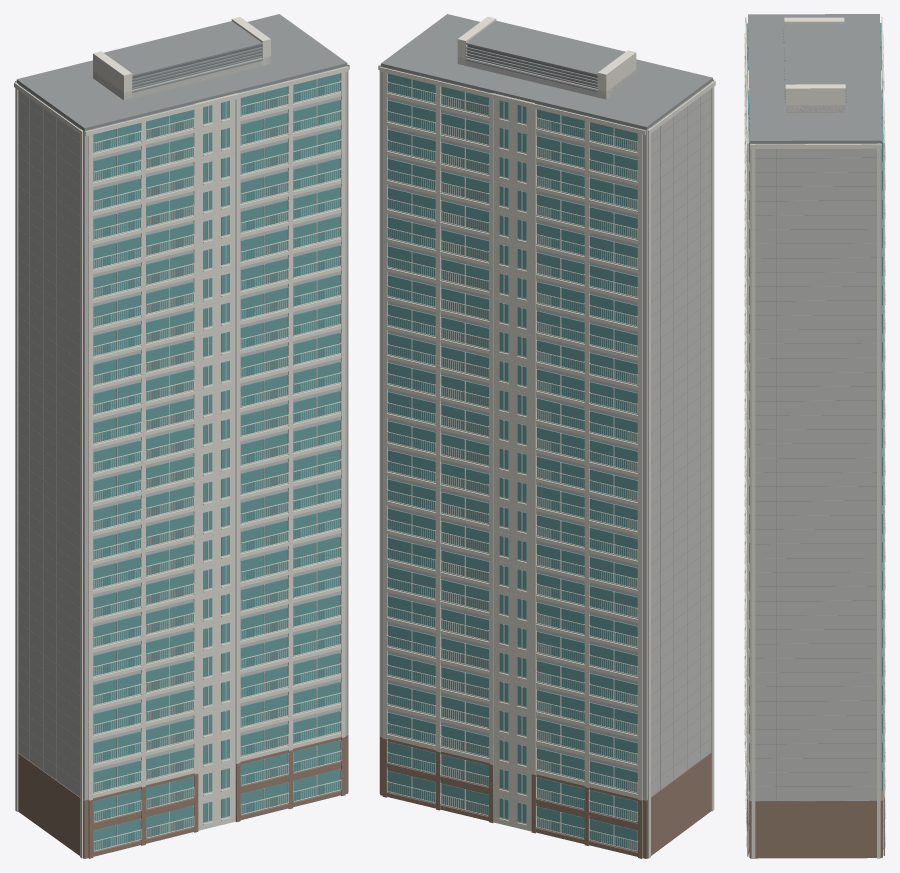
Rendered from bespoke-jamsil-els-156.glb.
3 views of the same model, side by side, from view 1: azimuth 30°, elevation 25°; view 2: azimuth 150°, elevation 25°; view 3: azimuth 270°, elevation 25° (orthographic).
Parts seen in each view (by area): view 1: Els156_editable_Els156_turquoise_balcony_glazing, Els156_editable_Els156_light_grey_solid_wall, Els156_white_exact_chunk_2, Els156_white_exact_chunk_1, Els156_white_exact_chunk_3, Els156_editable_Els156_modest_grey_flat_roof_caps, Els156_editable_Els156_muted_ground_wall, Els156_editable_Els156_narrow_charcoal_service_strips; view 2: Els156_editable_Els156_turquoise_balcony_glazing, Els156_editable_Els156_light_grey_solid_wall, Els156_white_exact_chunk_0, Els156_white_exact_chunk_1, Els156_editable_Els156_modest_grey_flat_roof_caps, Els156_editable_Els156_muted_ground_wall, Els156_white_exact_chunk_3, Els156_editable_Els156_narrow_charcoal_service_strips; view 3: Els156_editable_Els156_light_grey_solid_wall, Els156_editable_Els156_modest_grey_flat_roof_caps, Els156_white_exact_chunk_3, Els156_editable_Els156_muted_ground_wall, Els156_white_exact_chunk_0, Els156_editable_Els156_turquoise_balcony_glazing, Els156_white_exact_chunk_2, Els156_white_exact_chunk_1.
Part boxes in pixels (x1=…): Els156_editable_Els156_turquoise_balcony_glazing: x1=93, y1=73, x2=340, y2=850; Els156_editable_Els156_light_grey_solid_wall: x1=16, y1=56, x2=347, y2=801; Els156_white_exact_chunk_2: x1=88, y1=86, x2=341, y2=840; Els156_white_exact_chunk_1: x1=14, y1=80, x2=237, y2=858; Els156_white_exact_chunk_3: x1=85, y1=17, x2=349, y2=821; Els156_editable_Els156_modest_grey_flat_roof_caps: x1=16, y1=14, x2=347, y2=797; Els156_editable_Els156_muted_ground_wall: x1=18, y1=734, x2=348, y2=858; Els156_editable_Els156_narrow_charcoal_service_strips: x1=132, y1=45, x2=261, y2=87; Els156_editable_Els156_turquoise_balcony_glazing: x1=388, y1=73, x2=637, y2=850; Els156_editable_Els156_light_grey_solid_wall: x1=381, y1=56, x2=712, y2=802; Els156_white_exact_chunk_0: x1=383, y1=67, x2=584, y2=838; Els156_white_exact_chunk_1: x1=379, y1=67, x2=715, y2=858; Els156_editable_Els156_modest_grey_flat_roof_caps: x1=380, y1=14, x2=712, y2=797; Els156_editable_Els156_muted_ground_wall: x1=380, y1=736, x2=711, y2=858; Els156_white_exact_chunk_3: x1=378, y1=16, x2=714, y2=793; Els156_editable_Els156_narrow_charcoal_service_strips: x1=467, y1=45, x2=597, y2=86; Els156_editable_Els156_light_grey_solid_wall: x1=748, y1=32, x2=881, y2=800; Els156_editable_Els156_modest_grey_flat_roof_caps: x1=748, y1=14, x2=881, y2=801; Els156_white_exact_chunk_3: x1=745, y1=17, x2=881, y2=858; Els156_editable_Els156_muted_ground_wall: x1=745, y1=691, x2=884, y2=858; Els156_white_exact_chunk_0: x1=881, y1=70, x2=885, y2=855; Els156_editable_Els156_turquoise_balcony_glazing: x1=746, y1=23, x2=883, y2=847; Els156_white_exact_chunk_2: x1=744, y1=19, x2=748, y2=848; Els156_white_exact_chunk_1: x1=744, y1=16, x2=884, y2=751.
Bounding box in the file's own units: 25.55 × 68.35 × 11.79.
